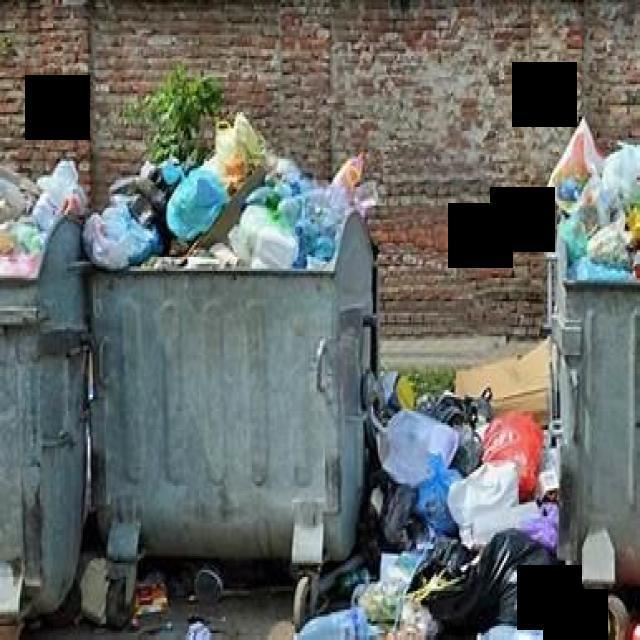Garbage: (297, 411, 555, 640), (84, 114, 376, 270), (546, 118, 640, 282), (1, 160, 86, 276)
Plastic_Bag: (548, 118, 640, 282), (430, 528, 556, 634), (447, 463, 558, 551), (376, 410, 459, 486), (482, 412, 544, 502), (82, 204, 162, 269), (166, 167, 228, 241), (33, 160, 86, 232), (415, 454, 461, 536), (109, 162, 166, 225), (410, 537, 475, 591), (0, 218, 45, 277)
Plastic_bottle: (247, 158, 350, 268)
